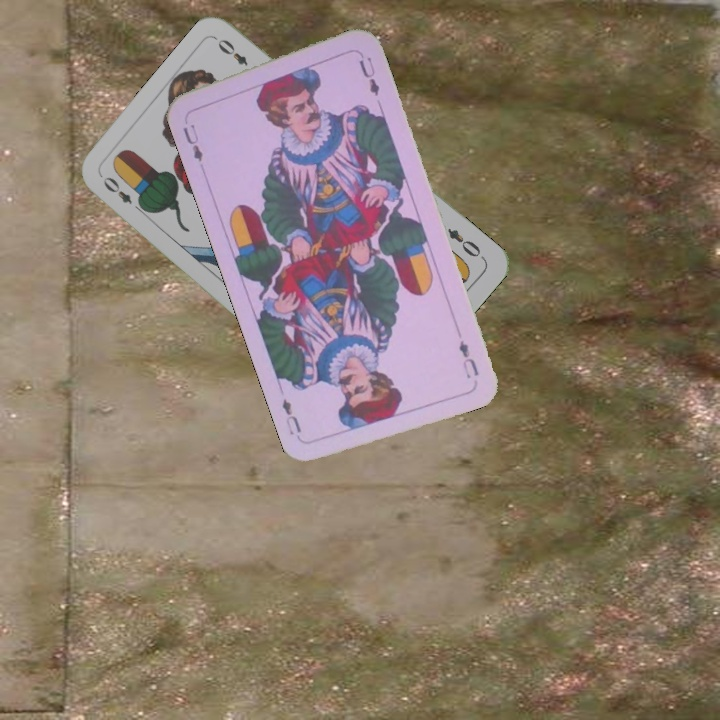EO: (98, 172, 148, 216), (443, 224, 483, 260)
EU: (454, 336, 481, 381), (179, 120, 206, 164)
